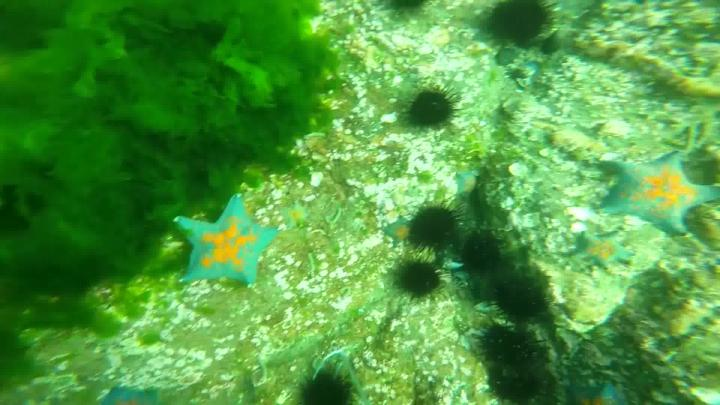echinus: (481, 322, 544, 398), (495, 263, 563, 325), (485, 1, 552, 46), (405, 89, 461, 137), (407, 205, 463, 249), (298, 373, 364, 405), (460, 232, 509, 273), (393, 259, 442, 296)
scallop: (509, 164, 530, 179), (525, 213, 541, 228)
starfish: (169, 191, 278, 288), (606, 150, 720, 237), (575, 227, 635, 272), (572, 383, 629, 405), (103, 385, 156, 405)
